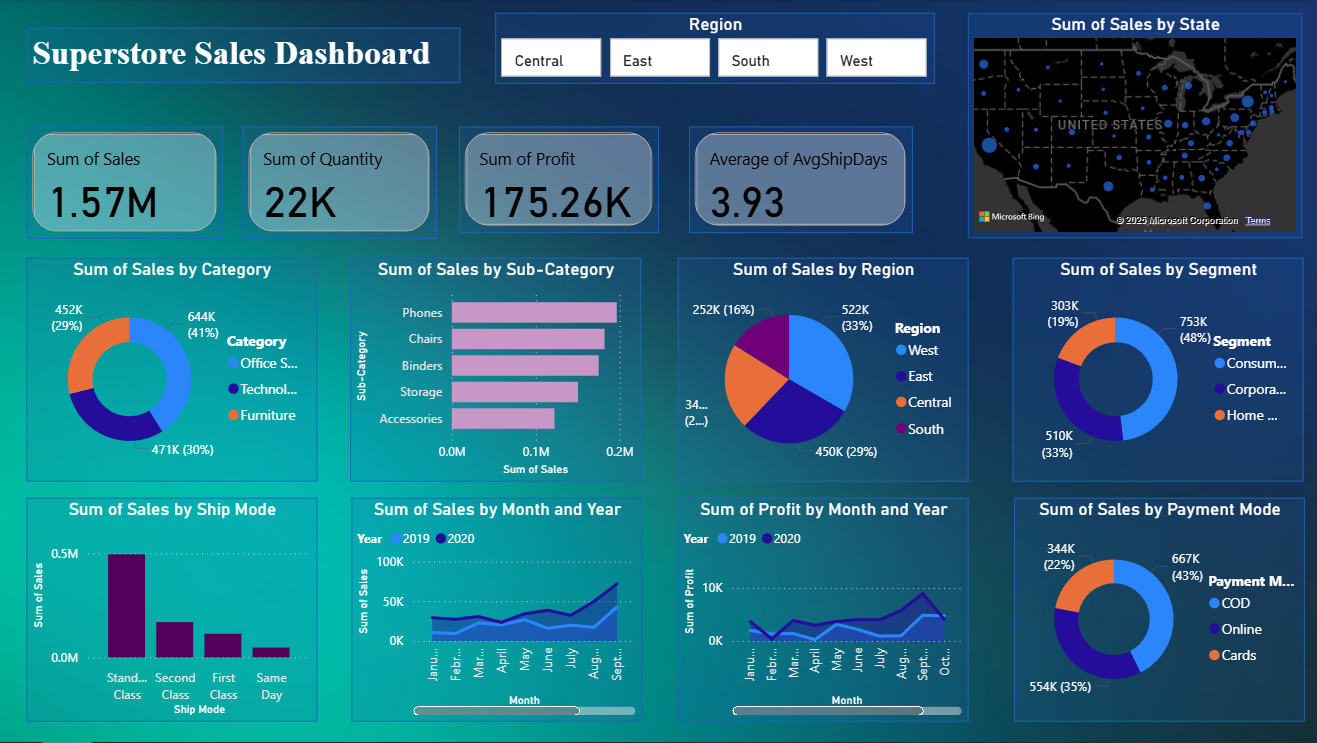

What the dashboard file says about the page in this screenshot:
{"tool":"powerbi","page":{"name":"Page 1","canvas":[1280,720],"ordinal":0},"visuals":[{"type":"donutChart","fields":{"Category":["Sheet1 (2).Category"],"Y":["Sum(Sheet1 (2).Sales)"]},"box":[26.1,251.1,281.3,216.8],"z":0},{"type":"clusteredBarChart","fields":{"Y":["Sum(Sheet1 (2).Sales)"],"Category":["Sheet1 (2).Sub-Category"]},"box":[340.3,251.1,281.3,216.8],"z":1000},{"type":"columnChart","fields":{"Category":["Sheet1 (2).Ship Mode"],"Y":["Sum(Sheet1 (2).Sales)"]},"box":[26.1,483,281.3,216.8],"z":2000},{"type":"areaChart","fields":{"Y":["Sum(Sheet1 (2).Sales)"],"Series":["Sheet1 (2).Order Date.Variation.Date Hierarchy.Year"],"Category":["Sheet1 (2).Order Date.Variation.Date Hierarchy.Month"]},"box":[341.7,483,281.3,216.8],"z":3000},{"type":"areaChart","fields":{"Series":["Sheet1 (2).Order Date.Variation.Date Hierarchy.Year"],"Category":["Sheet1 (2).Order Date.Variation.Date Hierarchy.Month"],"Y":["Sum(Sheet1 (2).Profit)"]},"box":[657.3,483,281.3,216.8],"z":4000},{"type":"pieChart","fields":{"Y":["Sum(Sheet1 (2).Sales)"],"Category":["Sheet1 (2).Region"]},"box":[657.3,251.1,281.3,216.8],"z":5000},{"type":"donutChart","fields":{"Y":["Sum(Sheet1 (2).Sales)"],"Category":["Sheet1 (2).Segment"]},"box":[981.1,251.1,281.3,216.8],"z":6000},{"type":"donutChart","fields":{"Y":["Sum(Sheet1 (2).Sales)"],"Category":["Sheet1 (2).Payment Mode"]},"box":[982.5,483,281.3,216.8],"z":7000},{"type":"cardVisual","fields":{"Data":["Sum(Sheet1 (2).Sales)"]},"box":[26.1,123.5,190.7,108.4],"z":8000},{"type":"cardVisual","fields":{"Data":["Sum(Sheet1 (2).Quantity)"]},"box":[236,123.5,188,108.4],"z":9000},{"type":"cardVisual","fields":{"Data":["Sum(Sheet1 (2).Profit)"]},"box":[446,123.5,193.5,102.9],"z":10000},{"type":"cardVisual","fields":{"Data":["Avg(Sheet1 (2).AvgShipDays)"]},"box":[668.3,123.5,216.8,102.9],"z":11000},{"type":"textbox","box":[26.1,27.4,419.9,53.5],"z":12000},{"type":"advancedSlicerVisual","fields":{"Values":["Sheet1 (2).Region"]},"box":[480.3,13.7,425.4,68.6],"z":13000},{"type":"map","fields":{"Category":["Sheet1 (2).State"],"Size":["Sum(Sheet1 (2).Sales)"]},"box":[938.6,13.7,323.8,218.2],"z":14000}]}

Visuals, with their boxes in screenshot pixels (x1, y1, x2, y2), scaled from the page's 1280x720 canvas onto the 1317x743 screenshot:
donutChart - Sheet1 (2).Category x Sum(Sheet1 (2).Sales): <bbox>27, 259, 316, 483</bbox>
clusteredBarChart - Sum(Sheet1 (2).Sales) x Sheet1 (2).Sub-Category: <bbox>350, 259, 640, 483</bbox>
columnChart - Sheet1 (2).Ship Mode x Sum(Sheet1 (2).Sales): <bbox>27, 498, 316, 722</bbox>
areaChart - Sum(Sheet1 (2).Sales) x Sheet1 (2).Order Date.Variation.Date Hierarchy.Year: <bbox>352, 498, 641, 722</bbox>
areaChart - Sheet1 (2).Order Date.Variation.Date Hierarchy.Year x Sheet1 (2).Order Date.Variation.Date Hierarchy.Month: <bbox>676, 498, 966, 722</bbox>
pieChart - Sum(Sheet1 (2).Sales) x Sheet1 (2).Region: <bbox>676, 259, 966, 483</bbox>
donutChart - Sum(Sheet1 (2).Sales) x Sheet1 (2).Segment: <bbox>1009, 259, 1299, 483</bbox>
donutChart - Sum(Sheet1 (2).Sales) x Sheet1 (2).Payment Mode: <bbox>1011, 498, 1300, 722</bbox>
cardVisual - Sum(Sheet1 (2).Sales): <bbox>27, 127, 223, 239</bbox>
cardVisual - Sum(Sheet1 (2).Quantity): <bbox>243, 127, 436, 239</bbox>
cardVisual - Sum(Sheet1 (2).Profit): <bbox>459, 127, 658, 234</bbox>
cardVisual - Avg(Sheet1 (2).AvgShipDays): <bbox>688, 127, 911, 234</bbox>
textbox: <bbox>27, 28, 459, 83</bbox>
advancedSlicerVisual - Sheet1 (2).Region: <bbox>494, 14, 932, 85</bbox>
map - Sheet1 (2).State x Sum(Sheet1 (2).Sales): <bbox>966, 14, 1299, 239</bbox>
